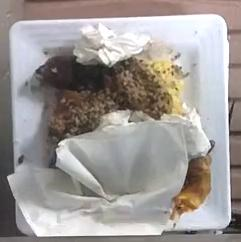fish: (31, 42, 189, 141)
